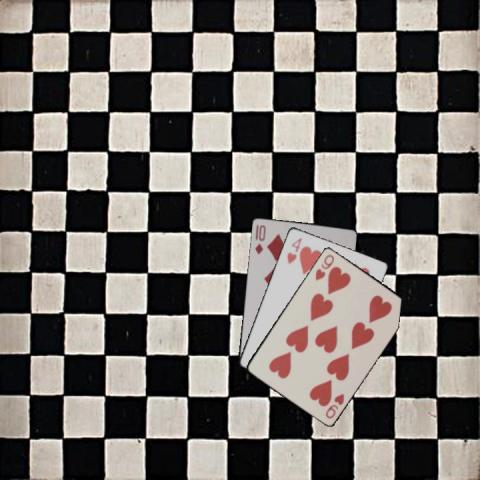10d: (252, 222, 267, 255)
4h: (284, 235, 303, 265)
9h: (312, 251, 335, 281), (322, 390, 345, 420)
